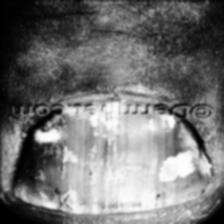Toxin: (15, 96, 218, 216)
